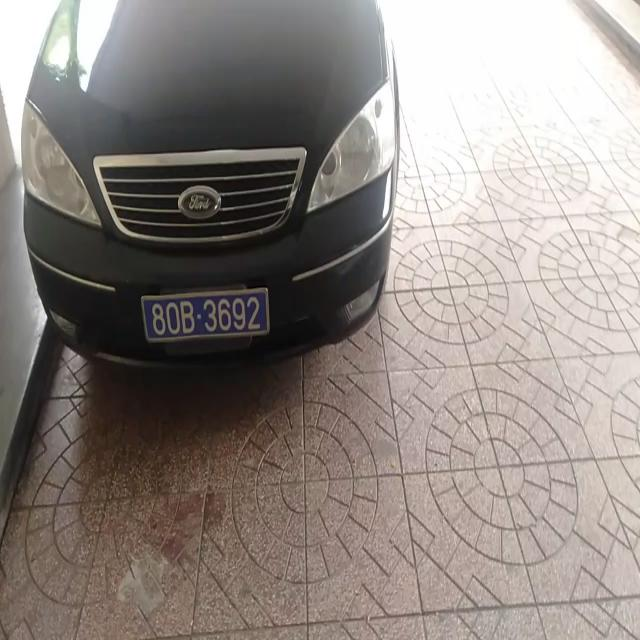bien_xanh: (139, 280, 269, 348)
